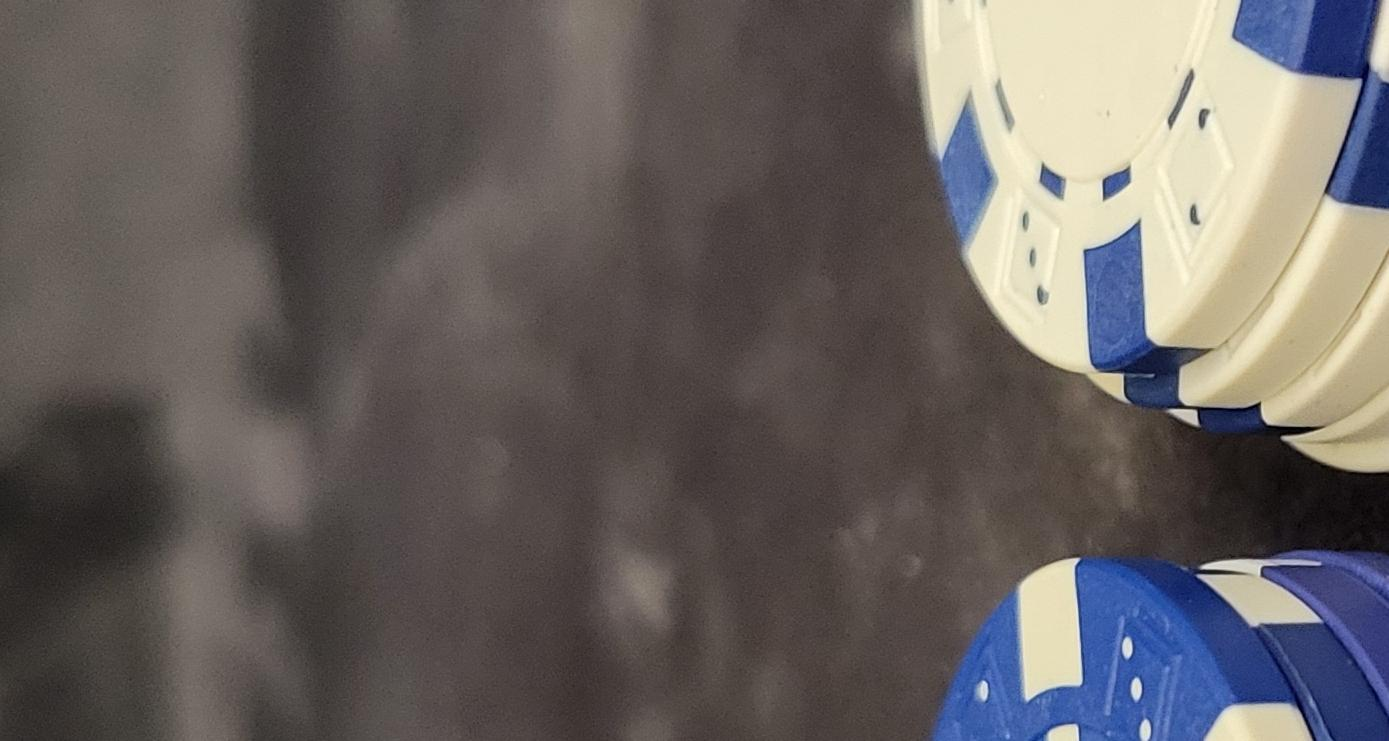Chip: (1, 341, 897, 741)
